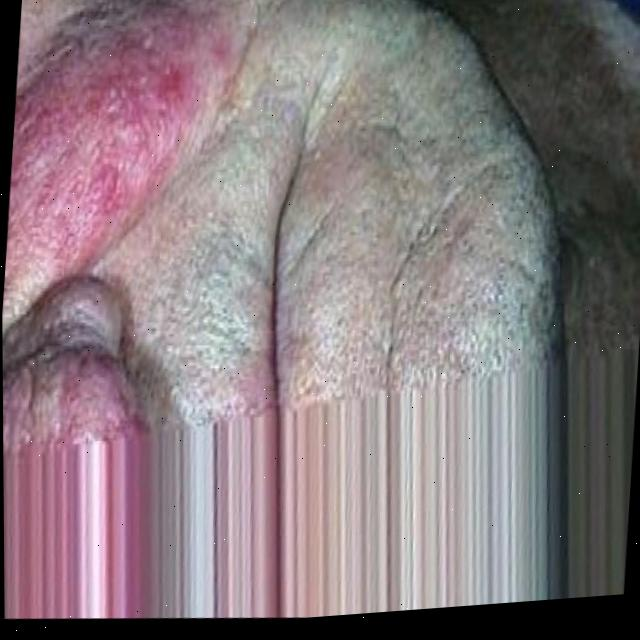Rosacea: (3, 0, 230, 276), (3, 338, 134, 457)
